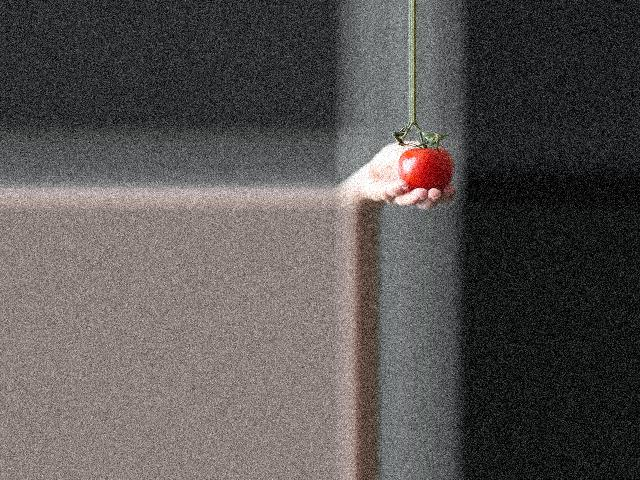tomato: (397, 146, 454, 190)
